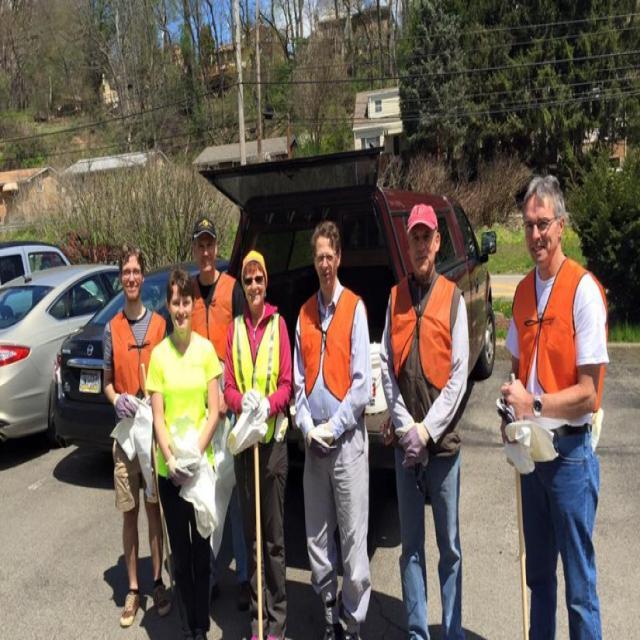body: (492, 162, 610, 639), (376, 198, 478, 639), (289, 214, 377, 638), (142, 260, 227, 639), (102, 238, 178, 632), (222, 244, 295, 638), (188, 216, 252, 616)
